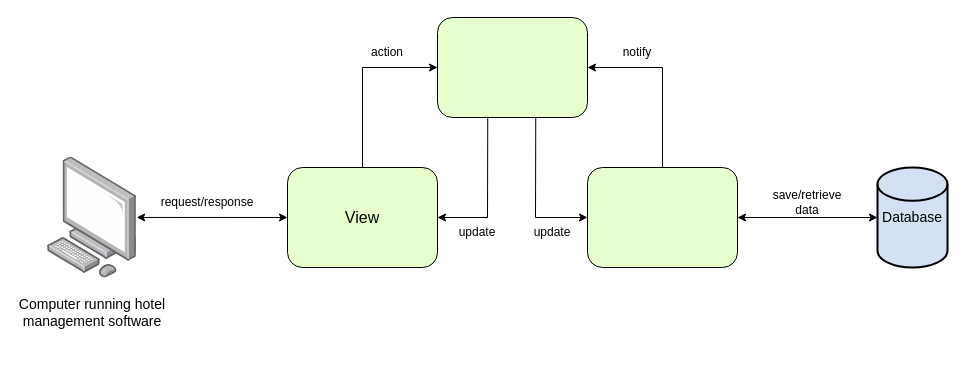
The diagram is 966 pixels wide and 365 high, and some of its shapes have lost their labels. Here are the shapes that lost their labels. From the top down, the centre of each, then its label:
At pixel 512 67: "Controller".
At pixel 662 217: "Model".
